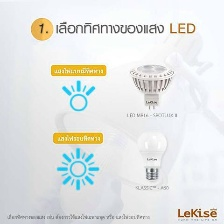light_bulb: (124, 58, 177, 111), (133, 126, 169, 185)
